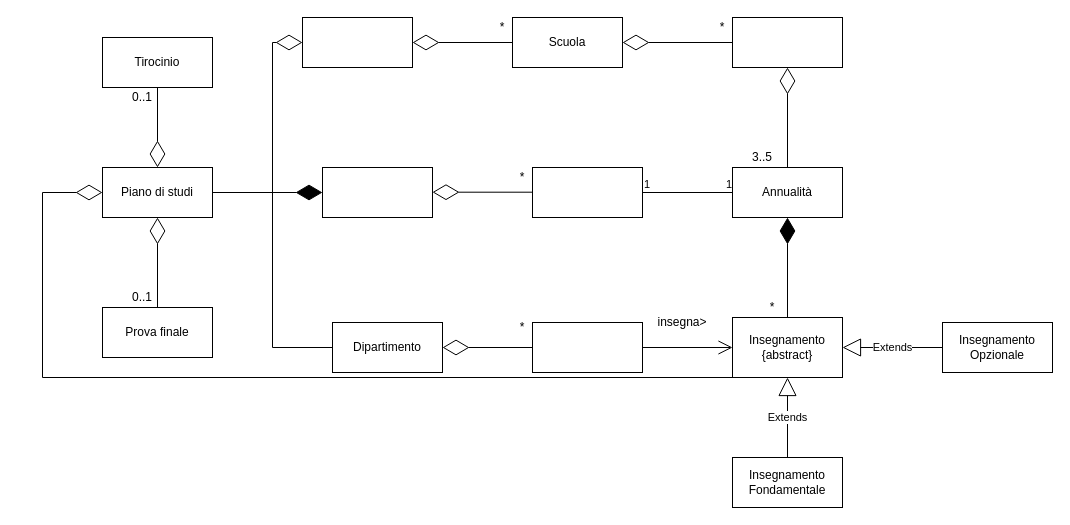
Some shapes in this 1070 by 525 pixel diagram are drawn without their labels. The shapes that lost their labels are listed below. From the top down, each one's centre as x and y in pixels, then its label:
At [357,42]: "Università".
At [787,42]: "Corso di studi".
At [377,192]: "Studente".
At [587,192]: "Iscrizione - inCorso: boolean".
At [587,347]: "Docente".
